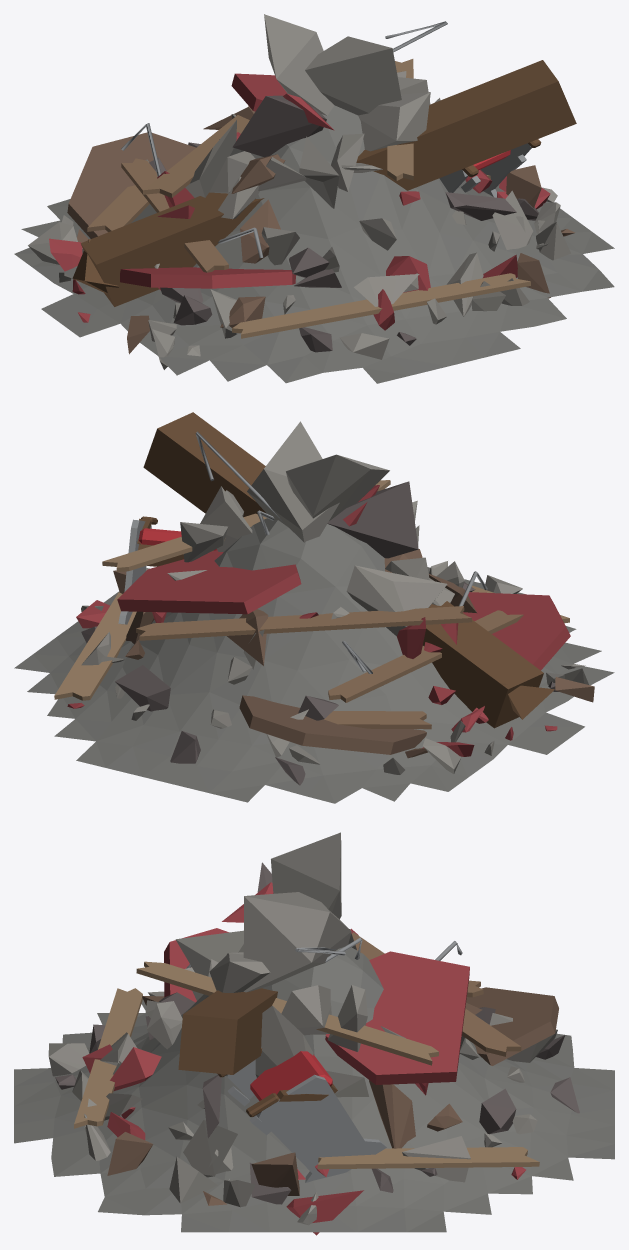
File: rubble_heap_b.glb
3 renders of one model, top to bottom at view 1: azimuth 30°, elevation 25°; view 2: azimuth 150°, elevation 25°; view 3: azimuth 270°, elevation 25°, orthographic. The views are drawn at different scales.
Parts seen in each view (by area): view 1: concrete_dark__rubble_heap_b__solid, concrete__rubble_heap_b__solid, dark_wood__rubble_heap_b__solid, ceiling_theater__rubble_heap_b__solid, wall_theater__rubble_heap_b__solid, stone__rubble_heap_b__solid, plank__rubble_heap_b__solid, wood__rubble_heap_b__solid, steel__rubble_heap_b__solid; view 2: concrete_dark__rubble_heap_b__solid, concrete__rubble_heap_b__solid, wall_theater__rubble_heap_b__solid, dark_wood__rubble_heap_b__solid, wood__rubble_heap_b__solid, ceiling_theater__rubble_heap_b__solid, stone__rubble_heap_b__solid, plank__rubble_heap_b__solid, steel__rubble_heap_b__solid, velvet__rubble_heap_b__solid; view 3: concrete_dark__rubble_heap_b__solid, concrete__rubble_heap_b__solid, wall_theater__rubble_heap_b__solid, plank__rubble_heap_b__solid, ceiling_theater__rubble_heap_b__solid, steel__rubble_heap_b__solid, dark_wood__rubble_heap_b__solid, stone__rubble_heap_b__solid, wood__rubble_heap_b__solid, velvet__rubble_heap_b__solid.
Part boxes in pixels (x1=…): concrete_dark__rubble_heap_b__solid: x1=14, y1=105, x2=614, y2=383; concrete__rubble_heap_b__solid: x1=28, y1=14, x2=570, y2=369; dark_wood__rubble_heap_b__solid: x1=72, y1=60, x2=576, y2=306; ceiling_theater__rubble_heap_b__solid: x1=67, y1=107, x2=575, y2=354; wall_theater__rubble_heap_b__solid: x1=49, y1=73, x2=550, y2=330; stone__rubble_heap_b__solid: x1=149, y1=95, x2=538, y2=352; plank__rubble_heap_b__solid: x1=232, y1=59, x2=530, y2=338; wood__rubble_heap_b__solid: x1=87, y1=106, x2=249, y2=272; steel__rubble_heap_b__solid: x1=121, y1=21, x2=531, y2=258; concrete_dark__rubble_heap_b__solid: x1=14, y1=518, x2=614, y2=803; concrete__rubble_heap_b__solid: x1=81, y1=421, x2=588, y2=774; wall_theater__rubble_heap_b__solid: x1=67, y1=485, x2=570, y2=756; dark_wood__rubble_heap_b__solid: x1=137, y1=412, x2=554, y2=728; wood__rubble_heap_b__solid: x1=136, y1=606, x2=523, y2=729; ceiling_theater__rubble_heap_b__solid: x1=113, y1=549, x2=594, y2=758; stone__rubble_heap_b__solid: x1=81, y1=481, x2=558, y2=785; plank__rubble_heap_b__solid: x1=54, y1=480, x2=569, y2=700; steel__rubble_heap_b__solid: x1=118, y1=431, x2=487, y2=685; velvet__rubble_heap_b__solid: x1=138, y1=528, x2=216, y2=550; concrete_dark__rubble_heap_b__solid: x1=14, y1=947, x2=614, y2=1232; concrete__rubble_heap_b__solid: x1=48, y1=832, x2=557, y2=1225; wall_theater__rubble_heap_b__solid: x1=82, y1=882, x2=525, y2=1235; plank__rubble_heap_b__solid: x1=74, y1=961, x2=539, y2=1169; ceiling_theater__rubble_heap_b__solid: x1=107, y1=987, x2=558, y2=1205; steel__rubble_heap_b__solid: x1=186, y1=937, x2=462, y2=1182; dark_wood__rubble_heap_b__solid: x1=178, y1=988, x2=337, y2=1116; stone__rubble_heap_b__solid: x1=55, y1=862, x2=579, y2=1204; wood__rubble_heap_b__solid: x1=352, y1=932, x2=521, y2=1056; velvet__rubble_heap_b__solid: x1=250, y1=1051, x2=332, y2=1100.
Bounding box in the file's own units: 2.99 × 1.49 × 3.
